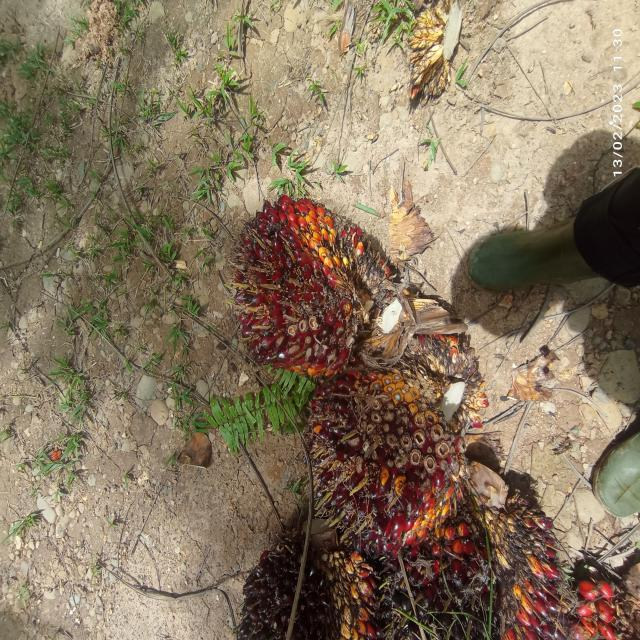fraksi 00: (297, 312, 492, 549)
fraksi 3: (203, 140, 400, 396)
